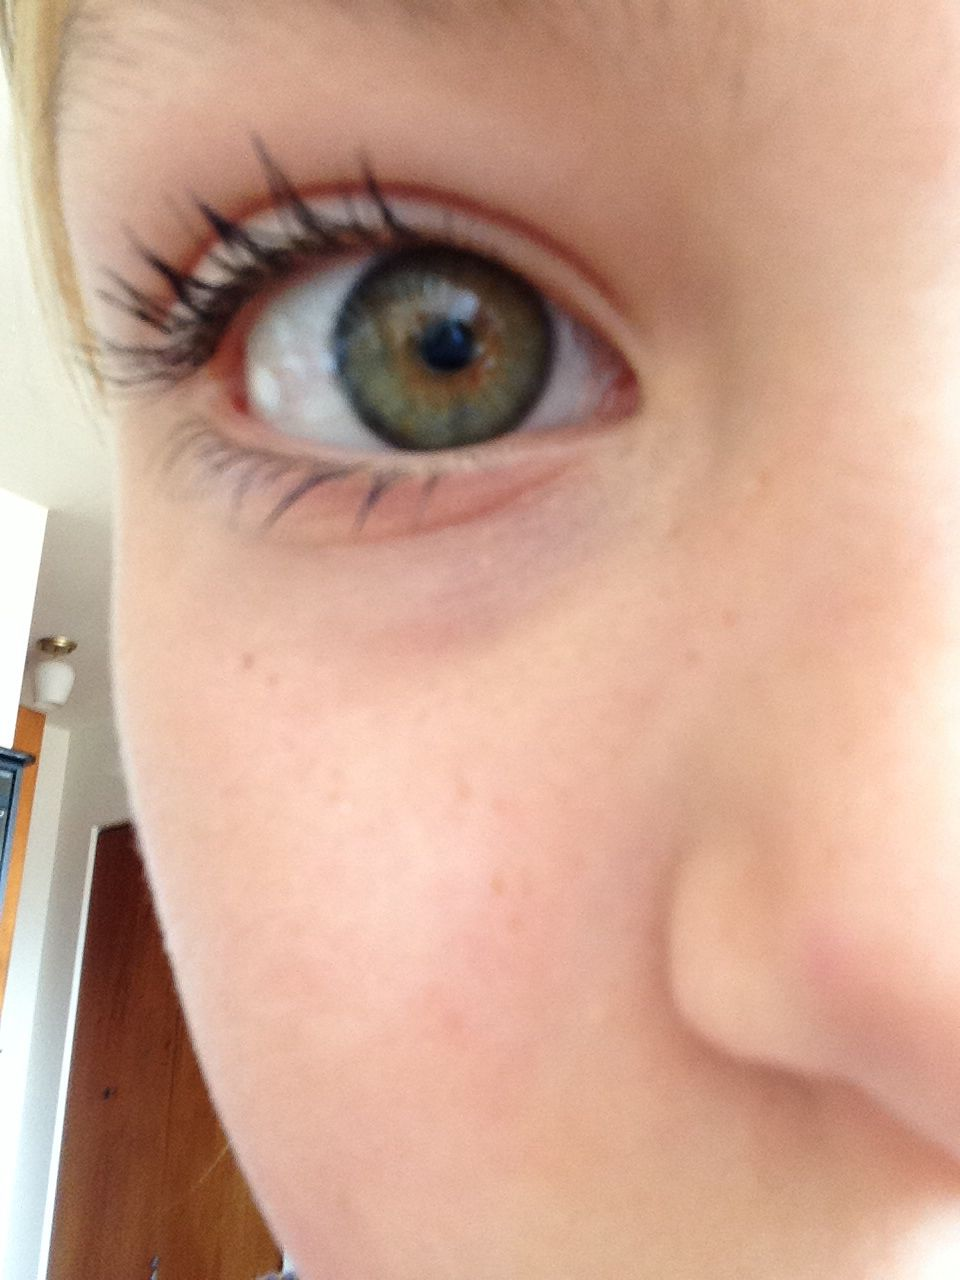iris: (334, 229, 556, 449)
pupil: (406, 311, 476, 379)
